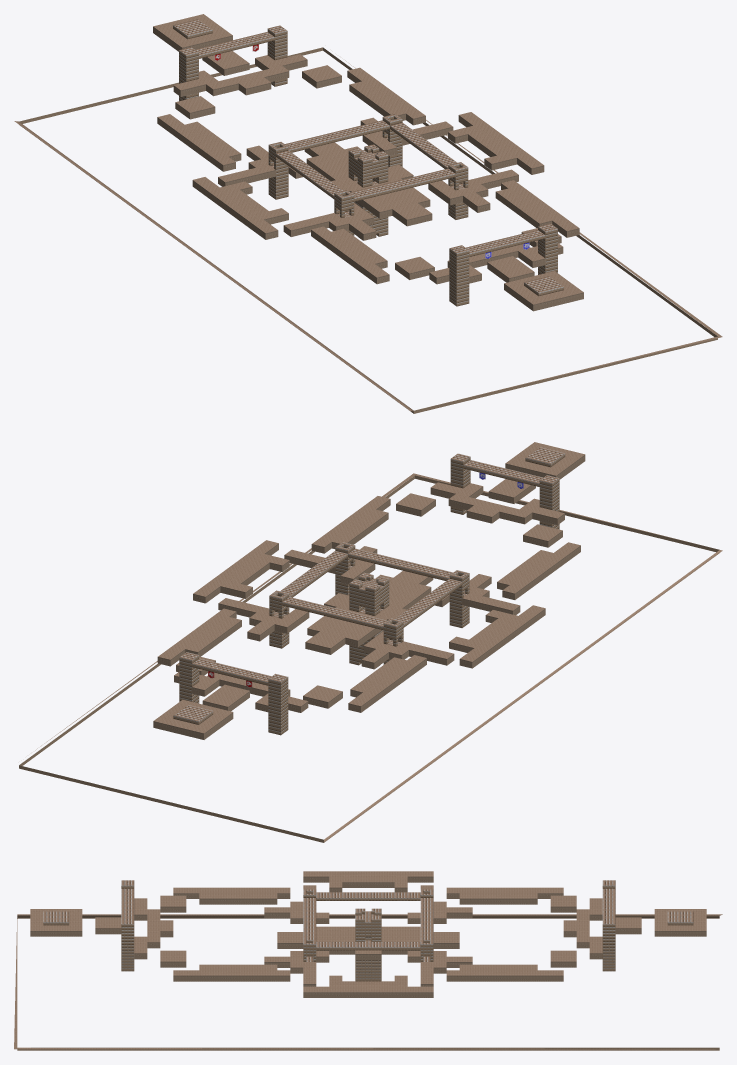
The model's file is F_NimbusRuins.fbx.
3 views of the same model, one above another, from view 1: azimuth 30°, elevation 25°; view 2: azimuth 150°, elevation 25°; view 3: azimuth 270°, elevation 25° (orthographic). The views are drawn at different scales.
Visible parts, largest first — view 1: MAP86; view 2: MAP86; view 3: MAP86.
Boxes of the visible parts, x1,y1,x2,y2 form: MAP86: (14, 14, 722, 413); MAP86: (19, 442, 722, 842); MAP86: (14, 871, 722, 1050).
Bounding box in the file's own units: 9800 × 2800 × 21800.
